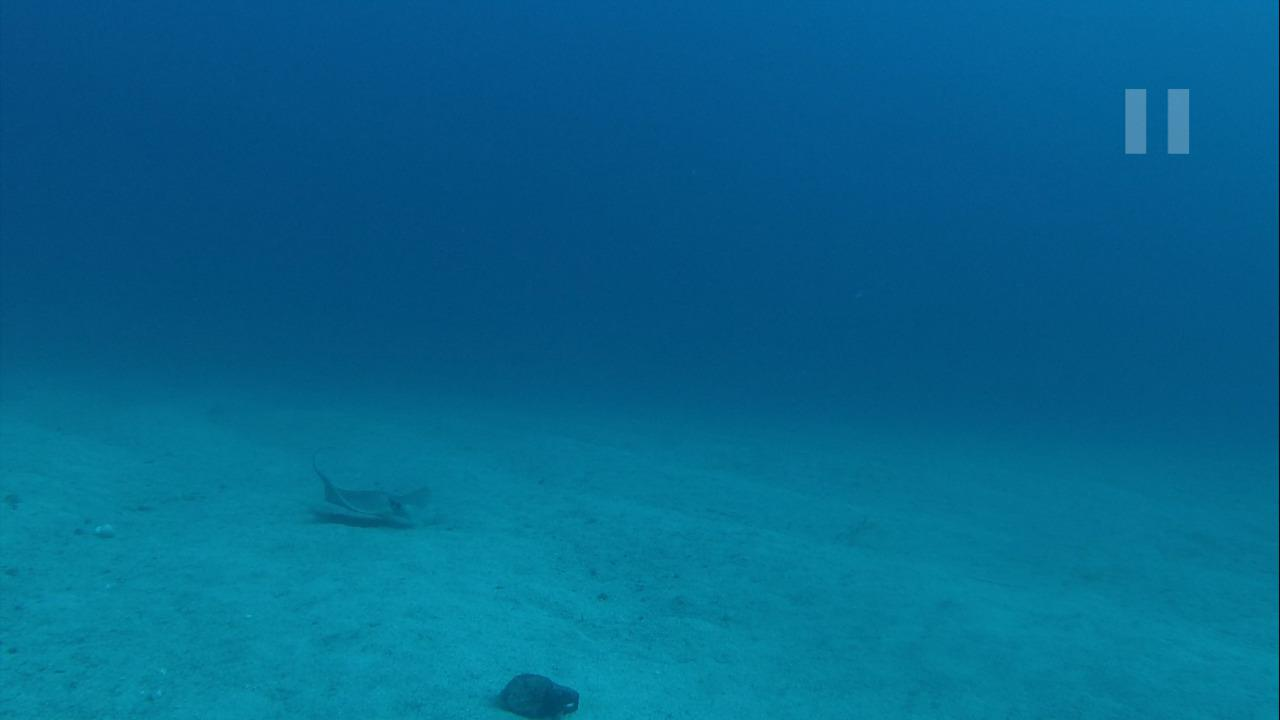myliobatis: (282, 436, 445, 533)
